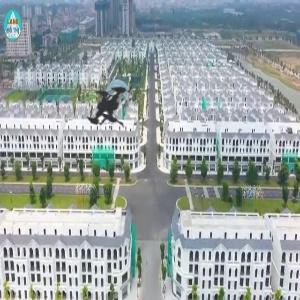drone: (26, 32, 187, 193)
